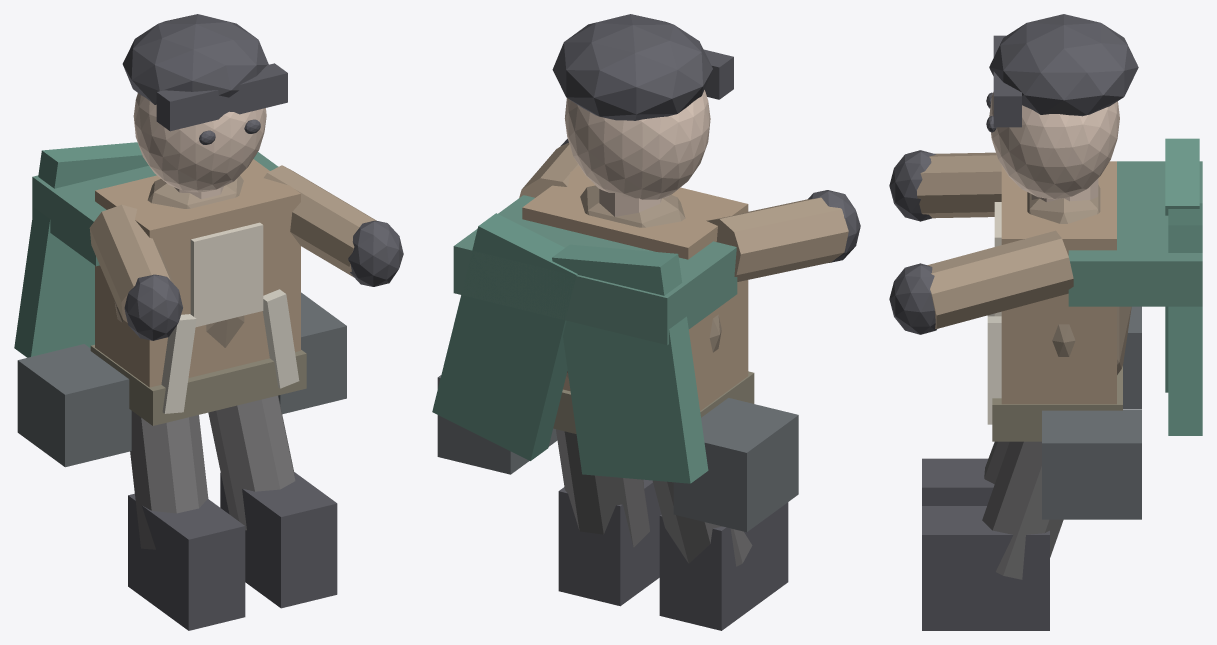
Rendered from levi.glb.
3 renders of one model, left to right at view 1: azimuth 30°, elevation 25°; view 2: azimuth 150°, elevation 25°; view 3: azimuth 270°, elevation 25°, orthographic. The views are drawn at different scales.
Visible parts, largest first — view 1: jaqueta, bota_esq, capa_esquerda, caixa_manobra_esq, bota_dir, cabelo, cabeca, perna_esq, perna_dir, camisa_clara, cinto, braco_dir (+9 smaller); view 2: capa_direita, capa_esquerda, capa_ombros, cabelo, jaqueta, caixa_manobra_esq, cabeca, bota_esq, bota_dir, braco_esq, perna_dir, caixa_manobra_dir (+7 smaller); view 3: jaqueta, bota_dir, capa_ombros, cabelo, caixa_manobra_dir, braco_dir, cabeca, capa_direita, perna_dir, braco_esq, bota_esq, capa_esquerda (+8 smaller).
Part boxes in pixels (left/top/right/bottom): jaqueta: left=95, top=159, right=300, bottom=387; bota_esq: left=128, top=493, right=245, bottom=630; capa_esquerda: left=14, top=142, right=148, bottom=357; caixa_manobra_esq: left=17, top=344, right=131, bottom=467; bota_dir: left=220, top=472, right=337, bottom=608; cabelo: left=122, top=14, right=268, bottom=104; cabeca: left=133, top=93, right=266, bottom=192; perna_esq: left=130, top=411, right=208, bottom=549; perna_dir: left=208, top=395, right=295, bottom=530; camisa_clara: left=190, top=222, right=263, bottom=326; cinto: left=90, top=344, right=306, bottom=425; braco_dir: left=264, top=165, right=376, bottom=277; capa_direita: left=432, top=213, right=577, bottom=460; capa_esquerda: left=552, top=244, right=708, bottom=483; capa_ombros: left=453, top=195, right=737, bottom=345; cabelo: left=552, top=14, right=712, bottom=120; jaqueta: left=522, top=166, right=748, bottom=410; caixa_manobra_esq: left=673, top=398, right=798, bottom=532; cabeca: left=564, top=90, right=710, bottom=199; bota_esq: left=659, top=502, right=788, bottom=630; bota_dir: left=558, top=479, right=661, bottom=606; braco_esq: left=706, top=197, right=848, bottom=281; perna_dir: left=556, top=429, right=649, bottom=547; caixa_manobra_dir: left=437, top=375, right=557, bottom=474; jaqueta: left=1001, top=161, right=1116, bottom=404; bota_dir: left=922, top=506, right=1049, bottom=630; capa_ombros: left=1068, top=161, right=1202, bottom=306; cabelo: left=989, top=14, right=1138, bottom=116; caixa_manobra_dir: left=1042, top=409, right=1141, bottom=519; braco_dir: left=927, top=230, right=1073, bottom=328; cabeca: left=989, top=92, right=1119, bottom=199; capa_direita: left=1168, top=203, right=1202, bottom=435; perna_dir: left=982, top=441, right=1063, bottom=579; braco_esq: left=917, top=152, right=1001, bottom=218; bota_esq: left=922, top=458, right=994, bottom=505; capa_esquerda: left=1165, top=138, right=1199, bottom=392.
Bounding box in the file's own units: 1.1 × 2.01 × 1.01.
